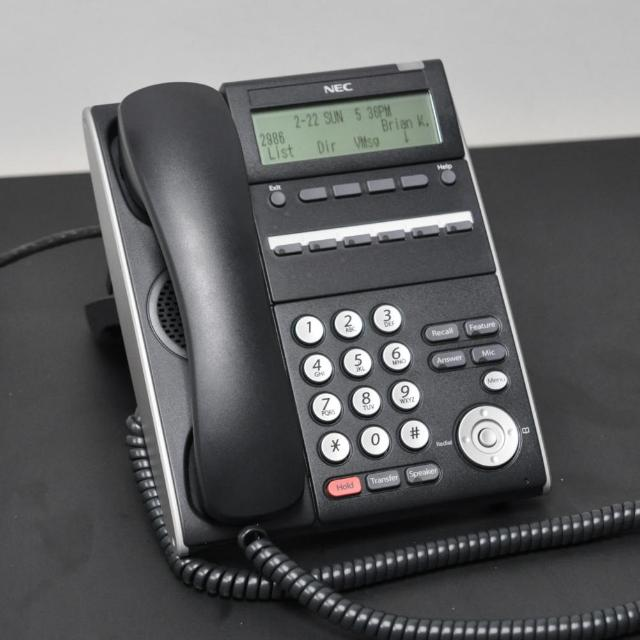Telephone-Set: (84, 58, 552, 560)
